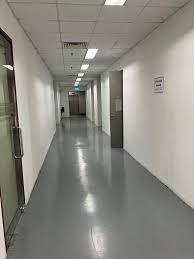exit: (69, 91, 84, 115)
lit_exit_sign: (72, 86, 79, 90)
